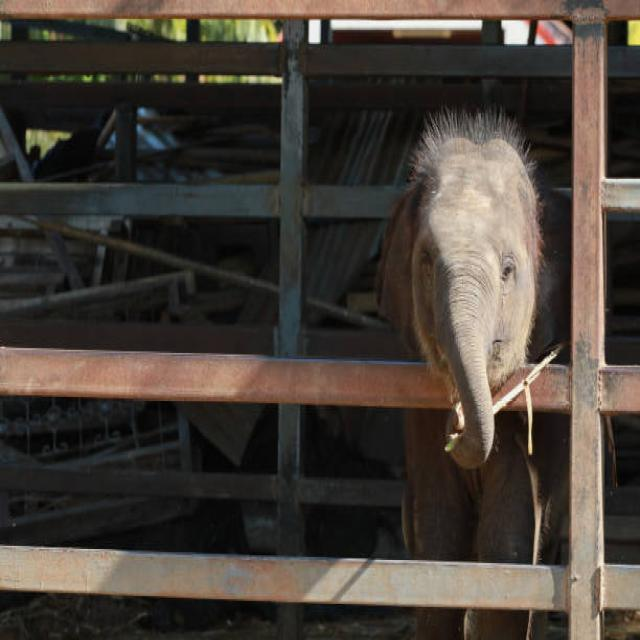Elephant: (371, 105, 549, 521)
